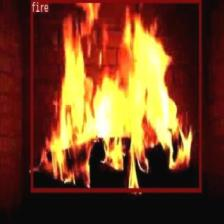fire: (30, 0, 201, 191)
